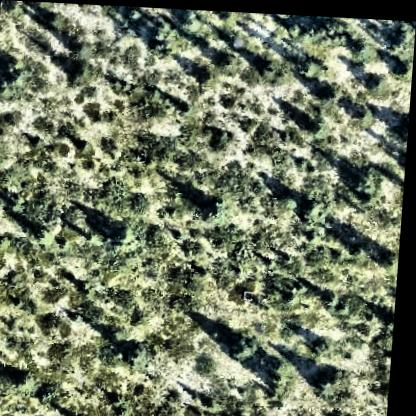tree-top: (314, 361, 354, 399), (145, 17, 181, 56), (268, 356, 301, 393), (229, 328, 263, 362), (311, 16, 347, 48), (107, 219, 141, 252), (212, 44, 245, 76), (349, 163, 382, 194), (0, 62, 26, 98), (298, 192, 328, 223), (201, 194, 232, 223), (386, 19, 415, 50), (253, 49, 281, 81), (63, 59, 92, 89), (126, 338, 154, 366), (314, 79, 342, 106), (302, 110, 329, 137), (38, 384, 67, 409), (312, 331, 340, 356), (378, 245, 403, 271), (14, 369, 41, 393), (348, 32, 372, 58), (278, 17, 304, 40), (39, 7, 63, 31), (354, 100, 377, 125), (295, 54, 320, 77), (172, 7, 198, 29), (392, 55, 414, 79), (32, 225, 54, 248), (193, 66, 216, 88), (109, 325, 132, 346), (70, 42, 94, 61), (177, 98, 196, 119), (0, 0, 22, 18), (124, 5, 143, 25), (0, 233, 16, 254), (323, 285, 340, 303), (112, 392, 131, 407), (0, 321, 5, 346)
